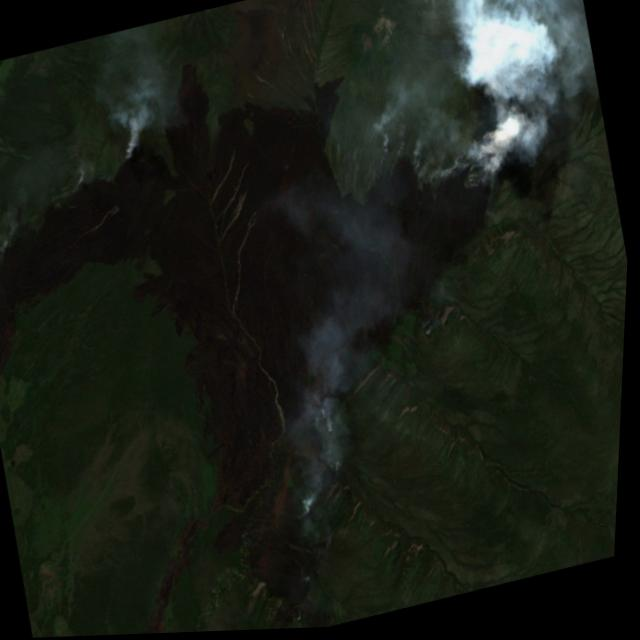fire: (402, 90, 541, 232), (272, 406, 358, 543)
